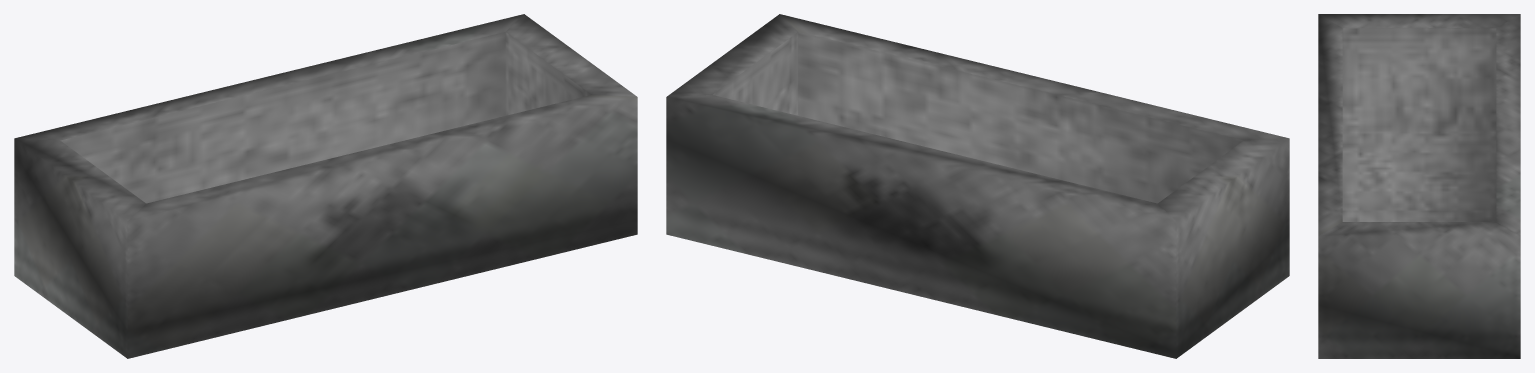
File: sd_coffin.glb
3 renders of one model, left to right at view 1: azimuth 30°, elevation 25°; view 2: azimuth 150°, elevation 25°; view 3: azimuth 270°, elevation 25°, orthographic. The views are drawn at different scales.
Parts seen in each view (by area): view 1: coffin; view 2: coffin; view 3: coffin.
Boxes of the visible parts, x1,y1,x2,y2 form: coffin: (14,14,637,358); coffin: (666,14,1289,358); coffin: (1318,14,1520,358).
Bounding box in the file's own units: 1.9 × 0.4899 × 0.7316.
1 material, 1 textured.
